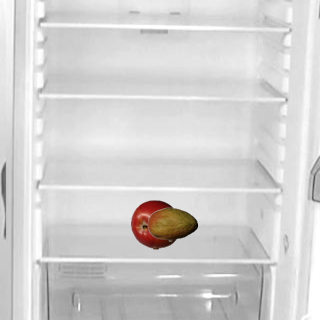Apple Braeburn: (130, 199, 180, 249)
Papaya: (147, 199, 197, 249)
